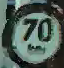Speed limit: (3, 6, 63, 61)
